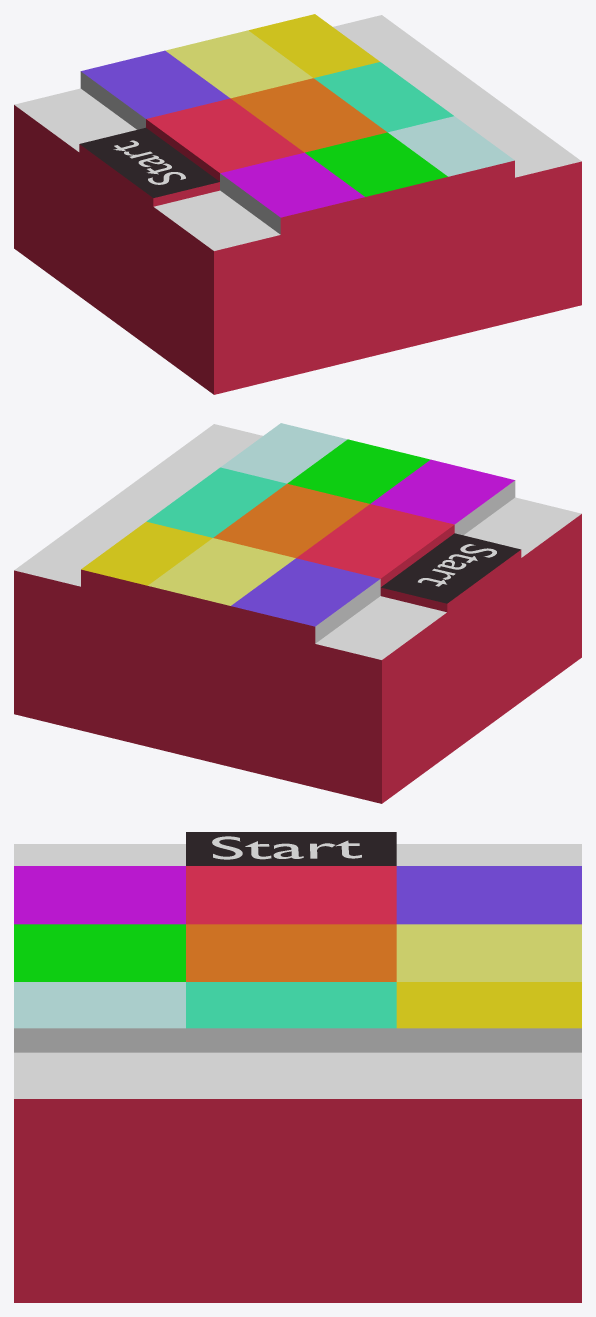
File: SignalLumineux.fbx
3 renders of one model, top to bottom at view 1: azimuth 30°, elevation 25°; view 2: azimuth 150°, elevation 25°; view 3: azimuth 270°, elevation 25°, orthographic. The views are drawn at different scales.
Parts seen in each view (by area): view 1: Signaux Lumineux, Text; view 2: Signaux Lumineux, Text; view 3: Signaux Lumineux, Text.
Part boxes in pixels (x1,y1,x2,y2): Signaux Lumineux: (14, 14, 581, 394); Text: (113, 140, 185, 184); Signaux Lumineux: (14, 423, 581, 803); Text: (418, 544, 496, 586); Signaux Lumineux: (14, 832, 581, 1302); Text: (212, 836, 361, 859).
Size of the model in its own units: 199 by 83.42 by 188.
